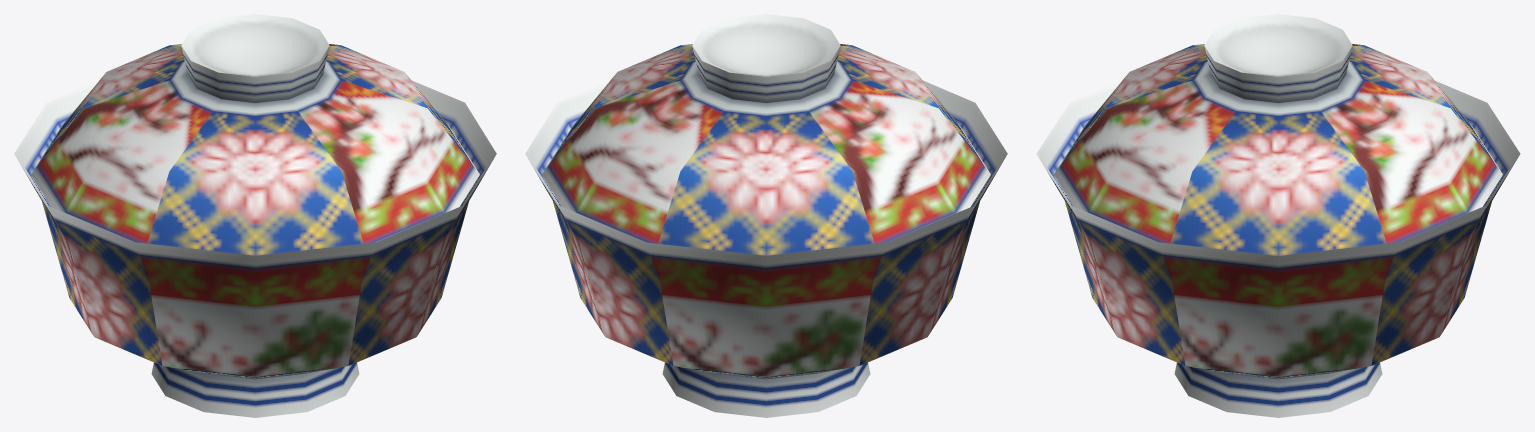
The model's file is KR_Rice_bowl_01_03.fbx.
3 views of the same model, side by side, from view 1: azimuth 30°, elevation 25°; view 2: azimuth 150°, elevation 25°; view 3: azimuth 270°, elevation 25° (orthographic).
Visible parts, largest first — view 1: lid, bowl; view 2: lid, bowl; view 3: lid, bowl.
Part boxes in pixels (x1,y1,x2,y2): lid: [31, 14, 479, 255]; bowl: [14, 80, 496, 417]; lid: [542, 14, 990, 255]; bowl: [525, 80, 1007, 417]; lid: [1054, 14, 1502, 255]; bowl: [1036, 81, 1520, 417].
Bounding box in the file's own units: 16 × 11.99 × 16.
